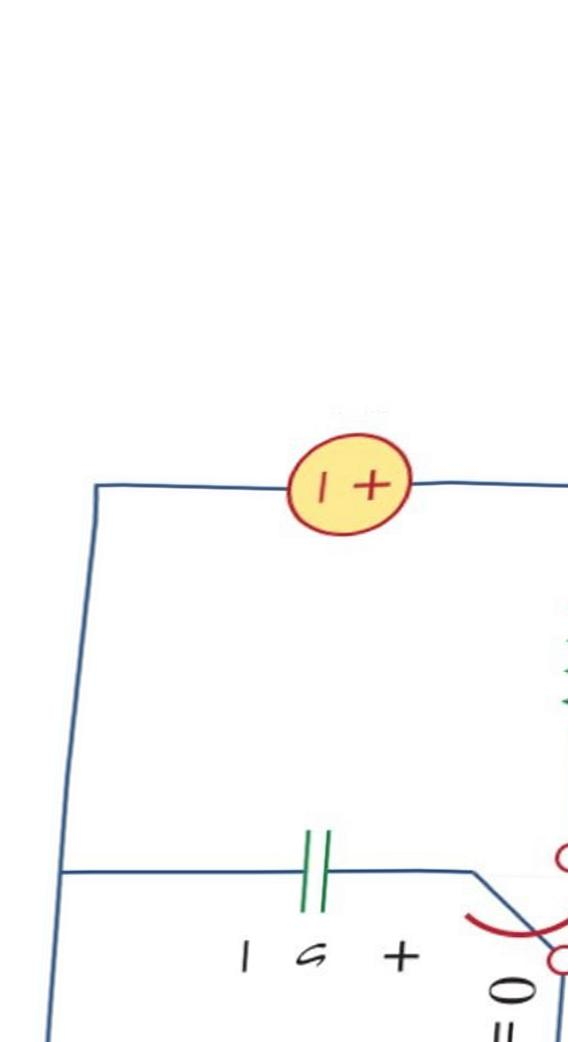Battery: (238, 395, 447, 572)
